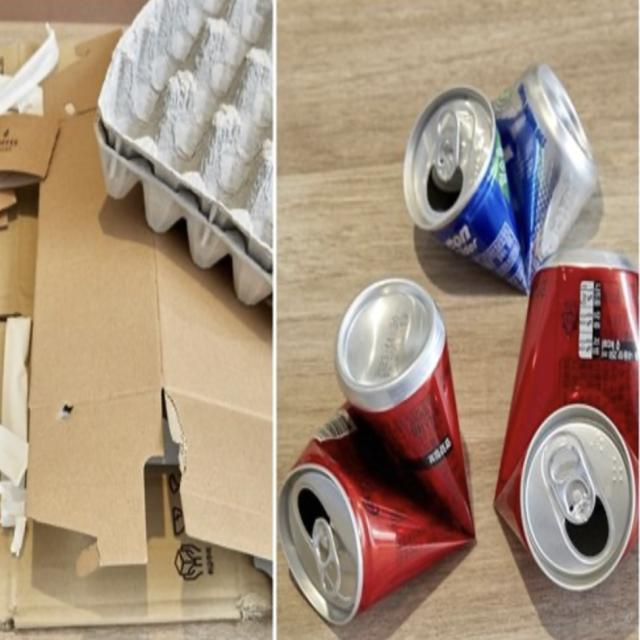biodegradable: (25, 56, 268, 598), (97, 0, 274, 317)
recyclable: (285, 262, 483, 624), (495, 232, 640, 628), (397, 46, 602, 299)
